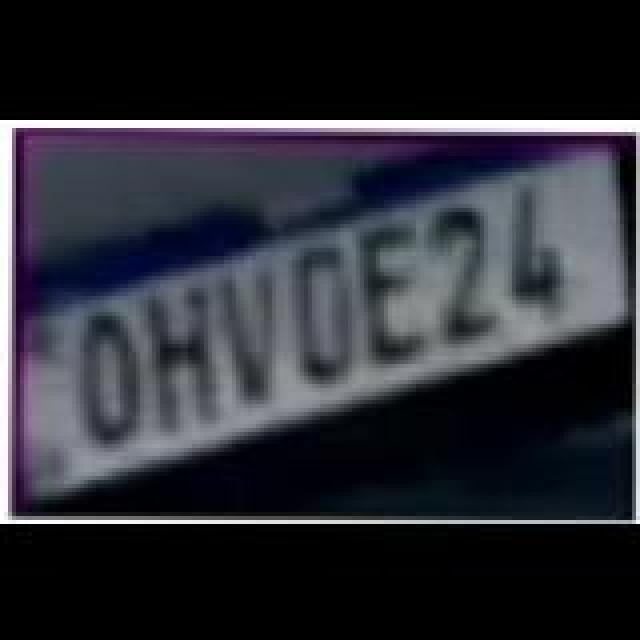2: (432, 204, 504, 340)
4: (510, 188, 570, 316)
D: (290, 240, 358, 384)
E: (360, 222, 432, 362)
H: (146, 286, 222, 434)
O: (78, 310, 146, 450)
V: (214, 266, 282, 406)
